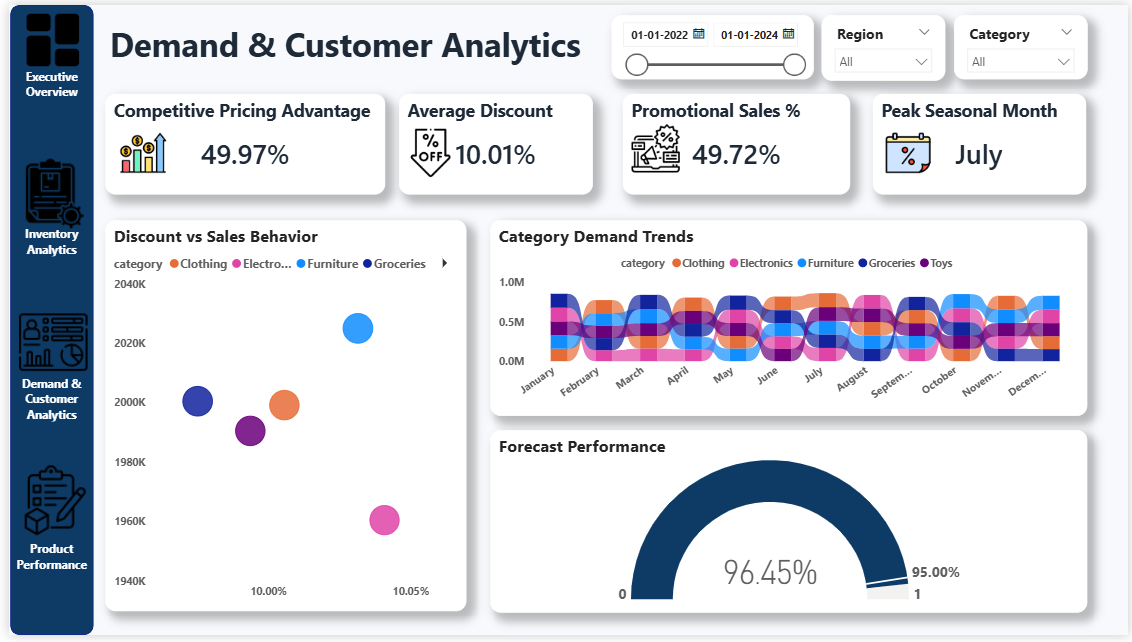

The page's visual inventory and layout, read from the dashboard file:
{"tool":"powerbi","page":{"name":"Demand & Customer Analytics","canvas":[1280,720],"ordinal":2},"visuals":[{"type":"shape","title":"Sidebar","box":[1.2,0,95,720],"z":0},{"type":"textbox","box":[109.9,13.8,557.5,76.2],"z":1000},{"type":"slicer","fields":{"Values":["Retail Inventory.date"]},"box":[688.7,11.2,231.2,73.8],"z":2000},{"type":"slicer","fields":{"Values":["Retail Inventory.region"]},"box":[928.7,11.2,141.2,75],"z":3000},{"type":"slicer","fields":{"Values":["Retail Inventory.category"]},"box":[1079.9,11.2,152.5,73.8],"z":4000},{"type":"cardVisual","title":"Competitive Pricing Advantage","fields":{"Data":["Retail Inventory.Competitive Pricing Advantage %"]},"box":[109.9,101.2,320,115],"z":5000},{"type":"cardVisual","title":"Average Discount","fields":{"Data":["Retail Inventory.Average Discount (%)"]},"box":[446.2,101.2,221.2,115],"z":6000},{"type":"cardVisual","title":"Promotional Sales %","fields":{"Data":["Retail Inventory.Promotion Sales"]},"box":[701.2,101.2,260,115],"z":7000},{"type":"cardVisual","title":"Peak Seasonal Month","fields":{"Data":["Retail Inventory.Peak Seasonal Month"]},"box":[987.4,101.2,243.8,115],"z":8000},{"type":"image","box":[454.9,141.2,55,55],"z":9000},{"type":"image","box":[711.2,131.2,55,65],"z":10000},{"type":"image","box":[999.9,141.2,55,55],"z":11000},{"type":"scatterChart","title":"Discount vs Sales Behavior","fields":{"X":["Retail Inventory.Average Discount by Category"],"Y":["Sum(Retail Inventory.units_sold)"],"Size":["Retail Inventory.Total Revenue"],"Series":["Retail Inventory.category"]},"box":[109.9,246.2,412.5,447.5],"z":12000},{"type":"ribbonChart","title":"Category Demand Trends","fields":{"Category":["Retail Inventory.date.Variation.Date Hierarchy.Month"],"Y":["Sum(Retail Inventory.units_sold)"],"Series":["Retail Inventory.category"]},"box":[549.9,246.2,682.5,223.8],"z":13000},{"type":"gauge","title":"Forecast Performance","fields":{"Y":["Retail Inventory.Forecast Accuracy"],"TargetValue":["Retail Inventory.Forecast Target"],"MinValue":["Retail Inventory.Gauge Min"],"MaxValue":["Retail Inventory.Gauge Max"]},"box":[549.9,485,682.5,208.8],"z":14000},{"type":"image","box":[126.2,141.2,55,55],"z":15000},{"type":"pageNavigator","box":[1.2,0,95,720],"z":16000},{"type":"image","box":[6.2,10,88.8,60],"z":17000},{"type":"image","box":[10,143.8,85,142.5],"z":18000},{"type":"image","box":[11.2,336.2,78.8,98.8],"z":19000},{"type":"image","box":[12.5,477.5,80,177.5],"z":20000}]}

Visuals, with their boxes in screenshot pixels (x1, y1, x2, y2), scaled from the page's 1280x720 canvas onto the 1132x642 screenshot:
"Sidebar" shape: 1, 0, 85, 641
textbox: 97, 12, 590, 80
slicer - Retail Inventory.date: 609, 10, 814, 76
slicer - Retail Inventory.region: 821, 10, 946, 77
slicer - Retail Inventory.category: 955, 10, 1090, 76
"Competitive Pricing Advantage" cardVisual: 97, 90, 380, 193
"Average Discount" cardVisual: 395, 90, 590, 193
"Promotional Sales %" cardVisual: 620, 90, 850, 193
"Peak Seasonal Month" cardVisual: 873, 90, 1089, 193
image: 402, 126, 451, 175
image: 629, 117, 678, 175
image: 884, 126, 933, 175
"Discount vs Sales Behavior" scatterChart: 97, 220, 462, 619
"Category Demand Trends" ribbonChart: 486, 220, 1090, 419
"Forecast Performance" gauge: 486, 432, 1090, 619
image: 112, 126, 160, 175
pageNavigator: 1, 0, 85, 641
image: 5, 9, 84, 62
image: 9, 128, 84, 255
image: 10, 300, 80, 388
image: 11, 426, 82, 584
